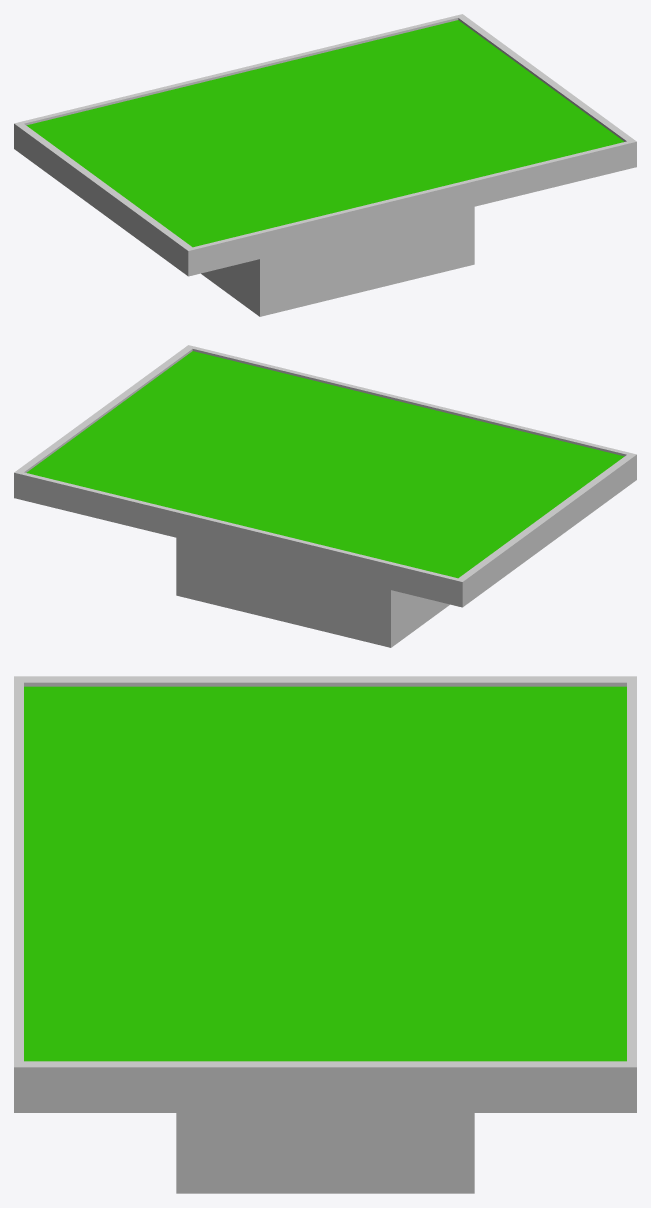
Rendered from PlayTable.fbx.
3 renders of one model, top to bottom at view 1: azimuth 30°, elevation 25°; view 2: azimuth 150°, elevation 25°; view 3: azimuth 270°, elevation 25°, orthographic. The views are drawn at different scales.
Parts seen in each view (by area): view 1: PlayTable; view 2: PlayTable; view 3: PlayTable.
Part boxes in pixels (x1,y1,x2,y2): PlayTable: (14, 14, 636, 316); PlayTable: (14, 345, 636, 647); PlayTable: (14, 676, 636, 1193).
Size of the model in its own units: 427 by 116 by 287.
